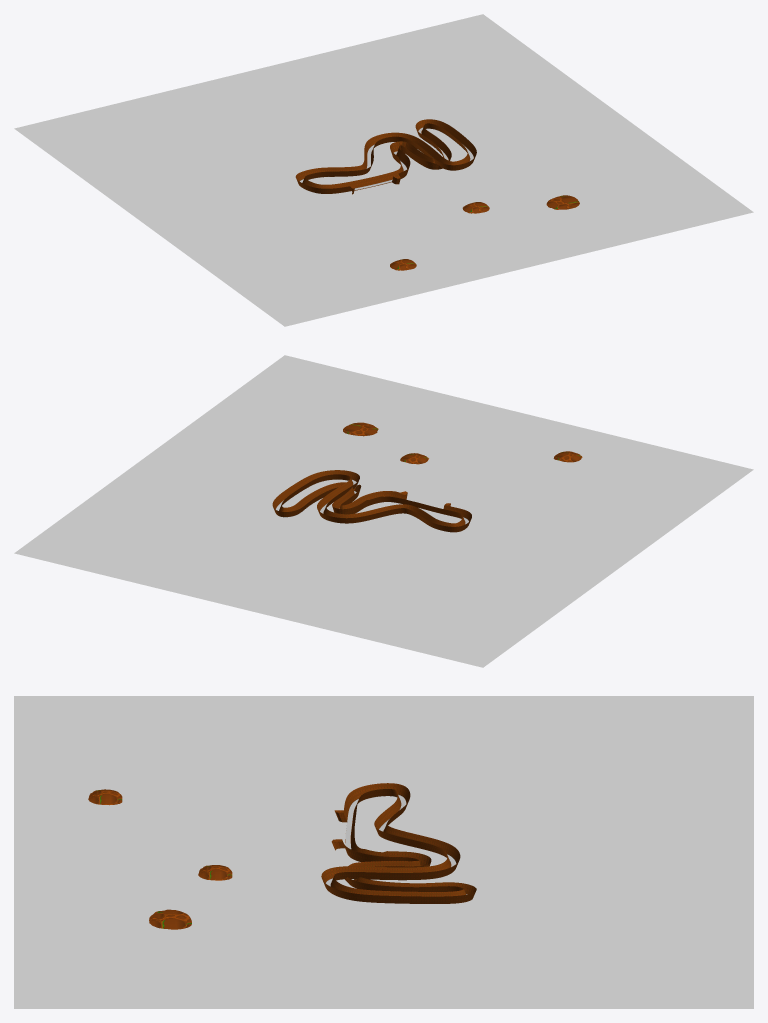
The model's file is CoastalTrack.fbx.
3 renders of one model, top to bottom at view 1: azimuth 30°, elevation 25°; view 2: azimuth 150°, elevation 25°; view 3: azimuth 270°, elevation 25°, orthographic. The views are drawn at different scales.
Parts seen in each view (by area): view 1: Water, Rocks; view 2: Water, Rocks; view 3: Water, Rocks, Sea_Rock.
Part boxes in pixels (x1,y1,x2,y2): Water: (14,14,753,326); Rocks: (295,119,476,194); Water: (14,355,753,667); Rocks: (272,470,471,532); Water: (14,696,753,1008); Rocks: (321,783,476,903); Sea_Rock: (149,909,191,929).
Bounding box in the file's own units: 287377 × 6214 × 287377.
